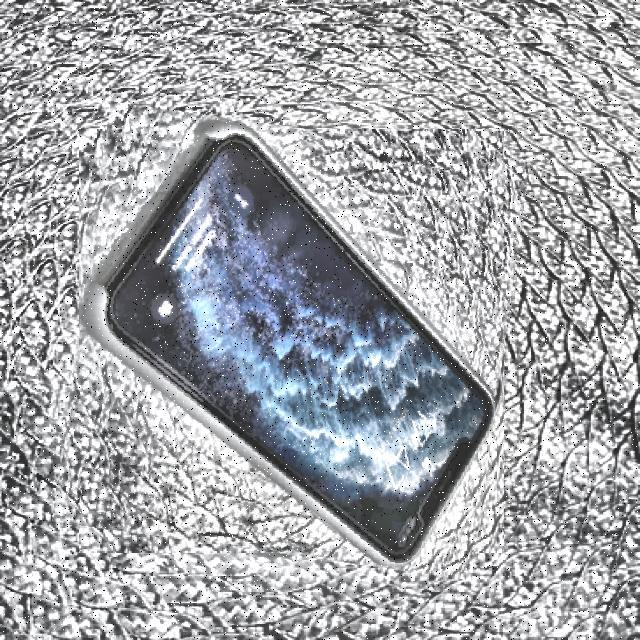Phone: (66, 116, 516, 566)
